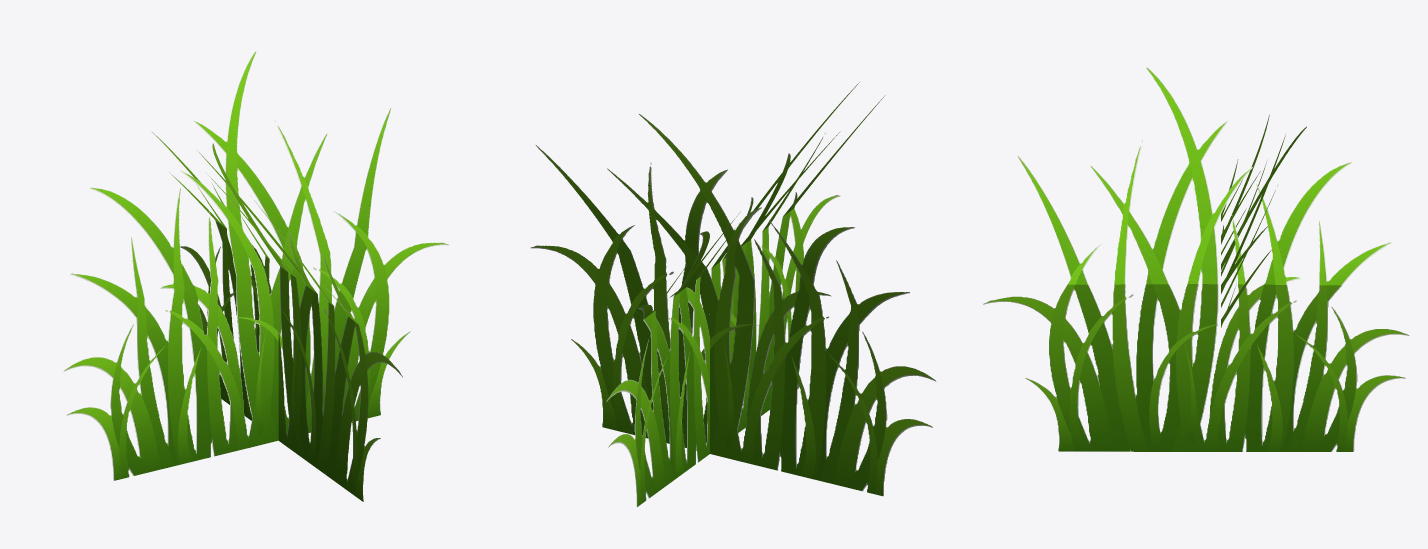
Rendered from grass.fbx.
3 renders of one model, left to right at view 1: azimuth 30°, elevation 25°; view 2: azimuth 150°, elevation 25°; view 3: azimuth 270°, elevation 25°, orthographic. The views are drawn at different scales.
Visible parts, largest first — view 1: Plane.002; view 2: Plane.002; view 3: Plane.002.
Part boxes in pixels (box(x1,y1,x2,y2)): Plane.002: box(63, 51, 448, 501); Plane.002: box(530, 82, 936, 506); Plane.002: box(983, 67, 1409, 451).
Size of the model in its own units: 15.11 by 13.04 by 15.11.
